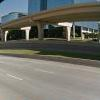Bridge: (4, 10, 92, 42)
